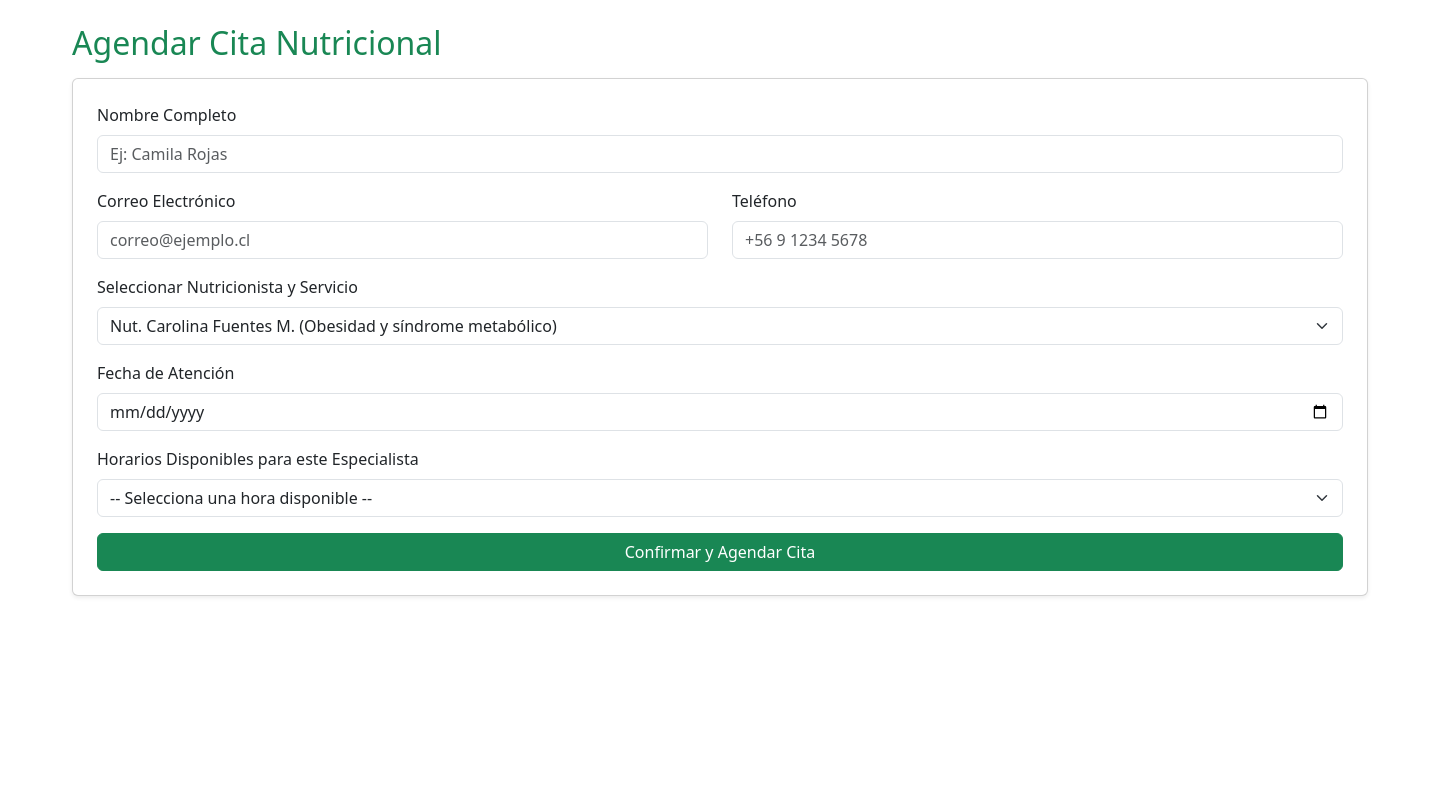
Test: Página Reserva › renderiza el formulario y muestra errores si se envía vacío
The width and height of the screenshot is (1440, 810).
What coordinates should you click on to do the following:
click the button "Confirmar y Agendar Cita"
I would click on:
 (720, 552)
Its box is 97,533 -> 1343,571.
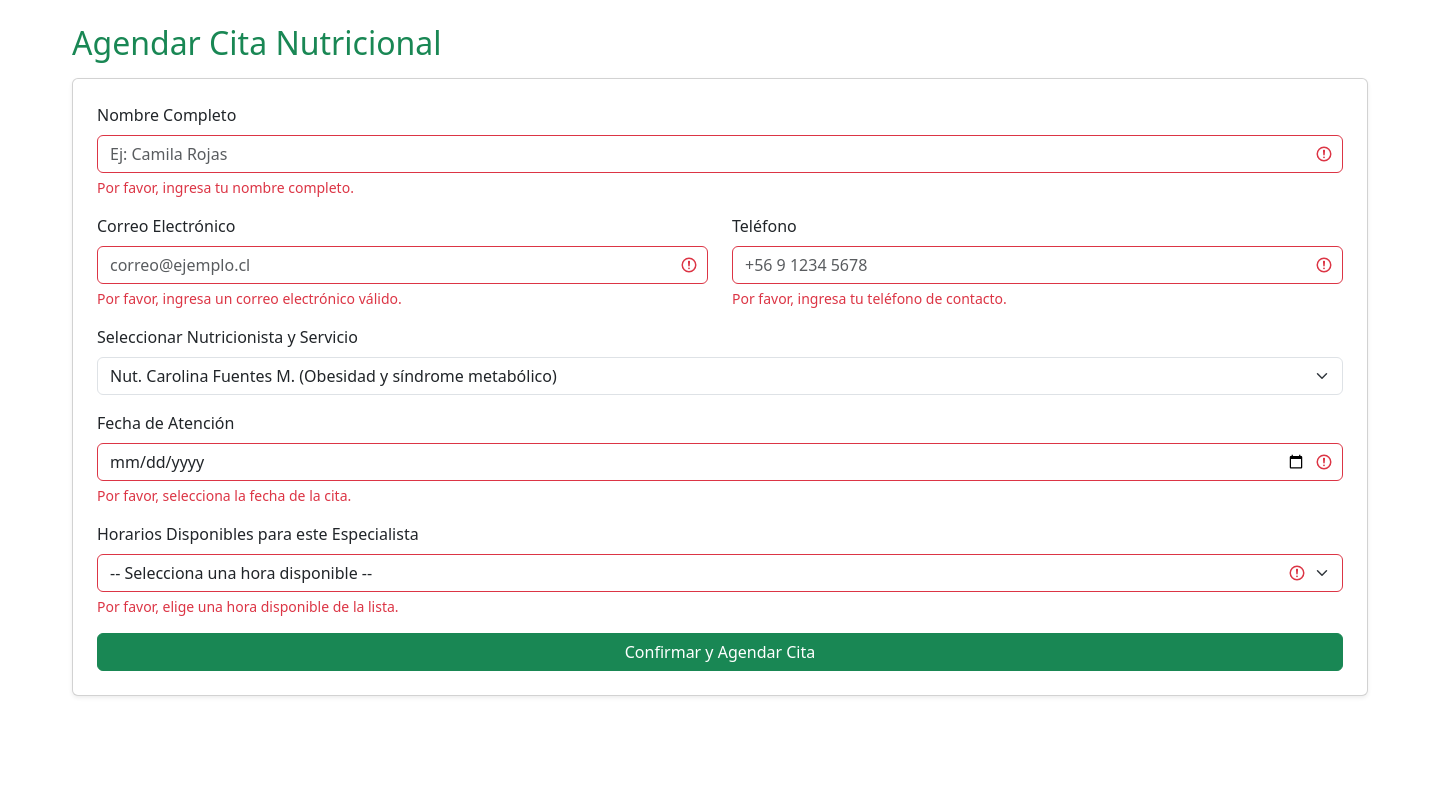
Expected: the text "Por favor, ingresa tu nombre completo." is shown, 97,178 -> 354,197
Expected: the text "Por favor, ingresa un correo electrónico válido." is shown, 97,289 -> 402,308
Expected: the text "Por favor, ingresa tu teléfono de contacto." is shown, 732,289 -> 1007,308
